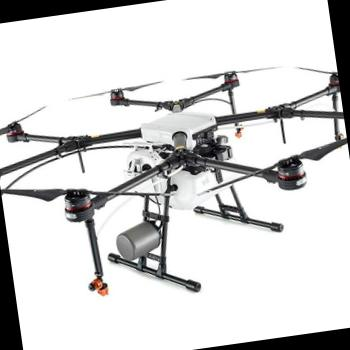drone: (0, 46, 350, 255)
